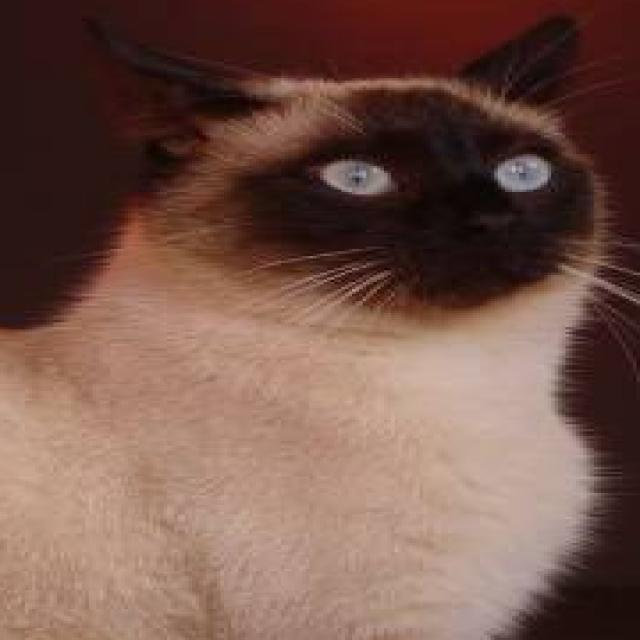Siamese: (0, 4, 618, 640)
